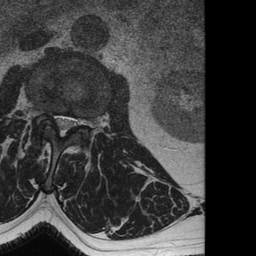CCS_normal: (59, 106, 67, 146)
LFS_stenosis: (76, 106, 86, 134)
LLS_normal: (67, 107, 76, 135)
RFS_severe_stenosis: (43, 102, 51, 127)
RLS_stenosis: (51, 104, 59, 134)
